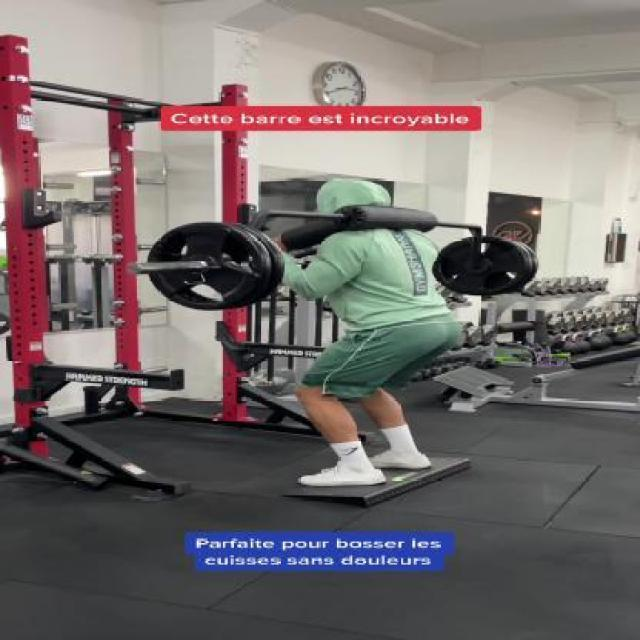barbell: (135, 219, 292, 313)
